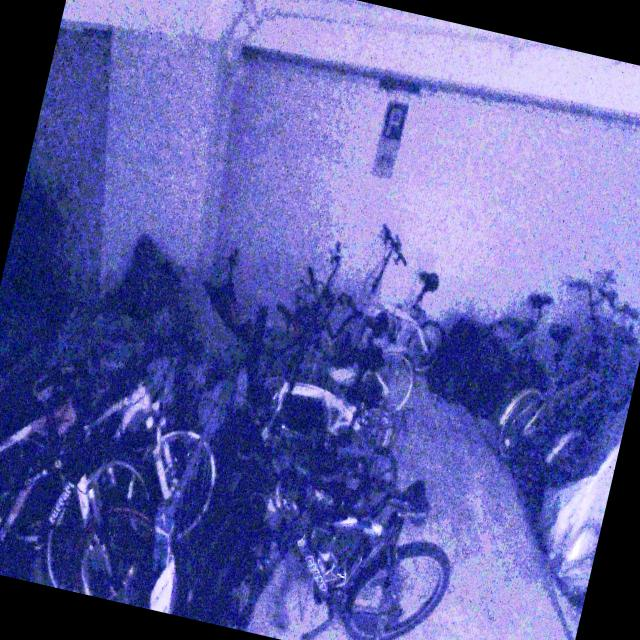bike: (0, 318, 242, 578), (206, 439, 469, 640), (0, 339, 179, 604), (490, 274, 640, 482), (272, 234, 442, 412), (474, 259, 619, 415), (324, 220, 466, 378)
